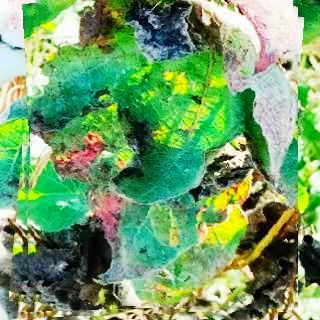blight: (15, 0, 298, 318)
